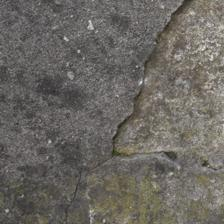Crack: (2, 19, 153, 83), (57, 2, 133, 113)
